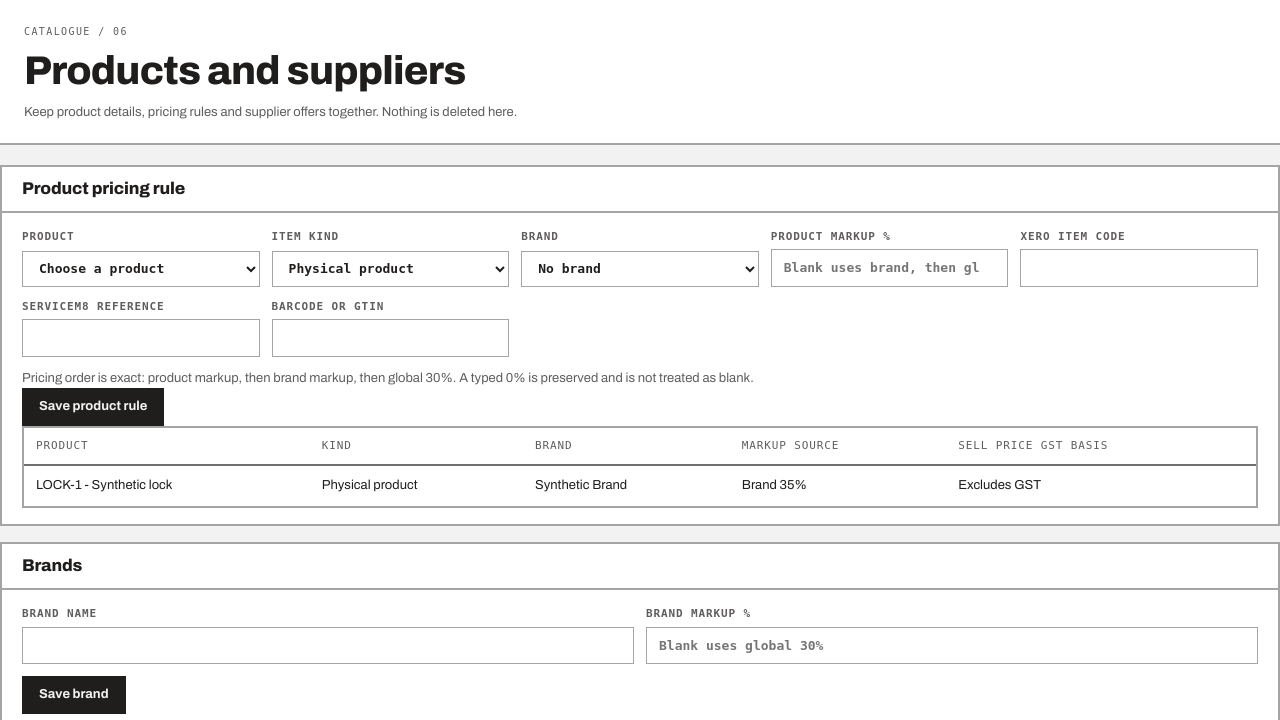
Products and suppliers page › refreshes the authoritative domain after a stale mutation conflict
Select "LOCK-1 - Synthetic lock" in the dropdown labelled "Product" at (141, 269), box [22,251,260,287]
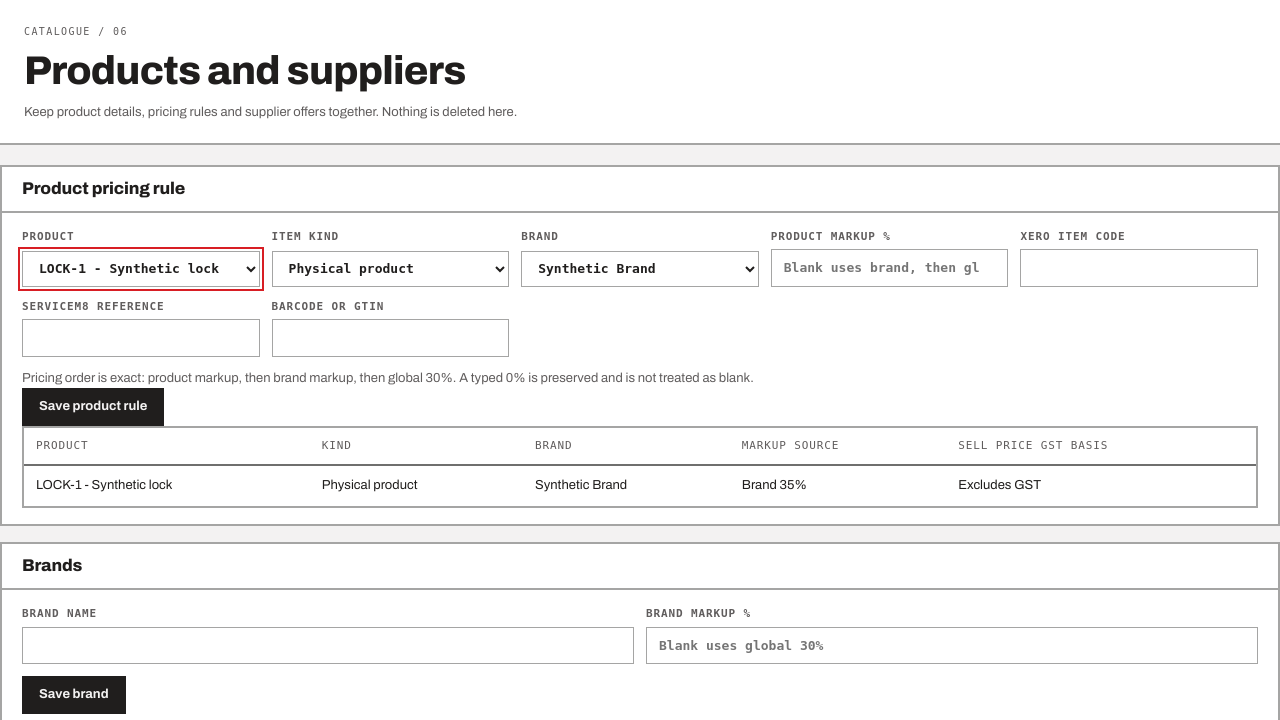
Click the button "Save product rule" at (93, 407), box [22,388,164,426]
(page scrolled)
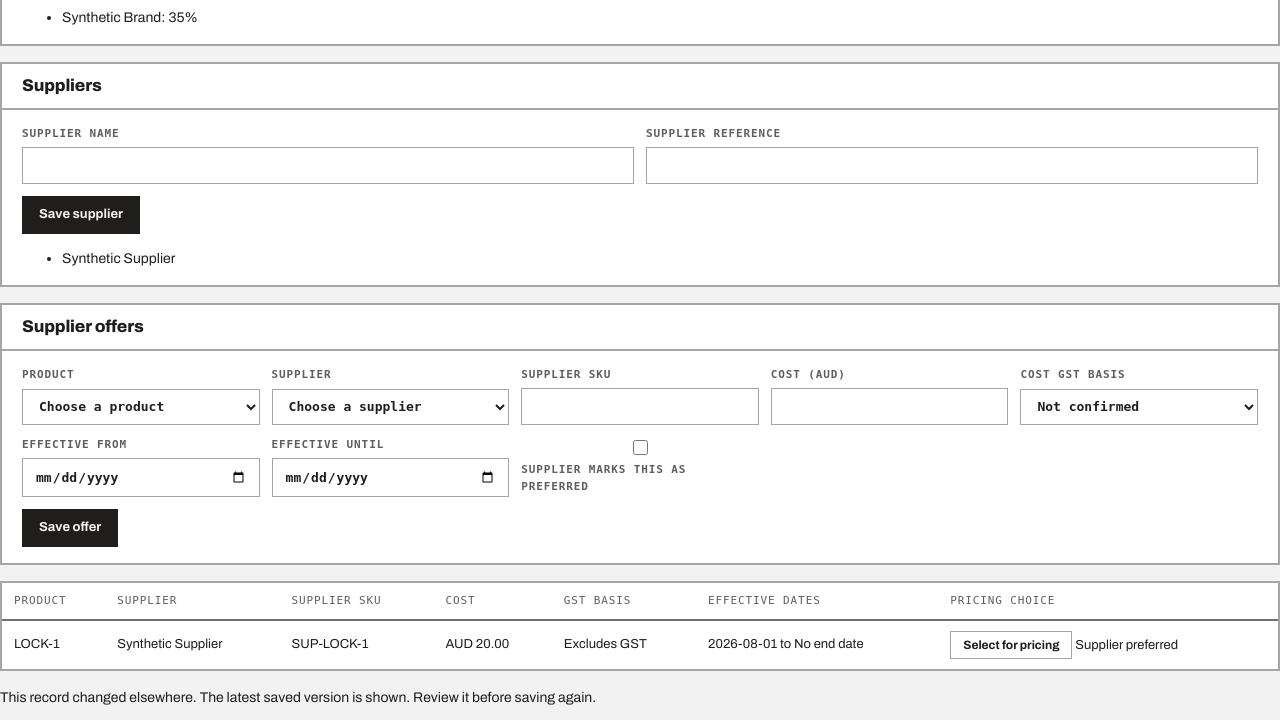
Expected: the message shows "This record changed elsewhere. The latest saved version is shown.", [0,690,596,705]
